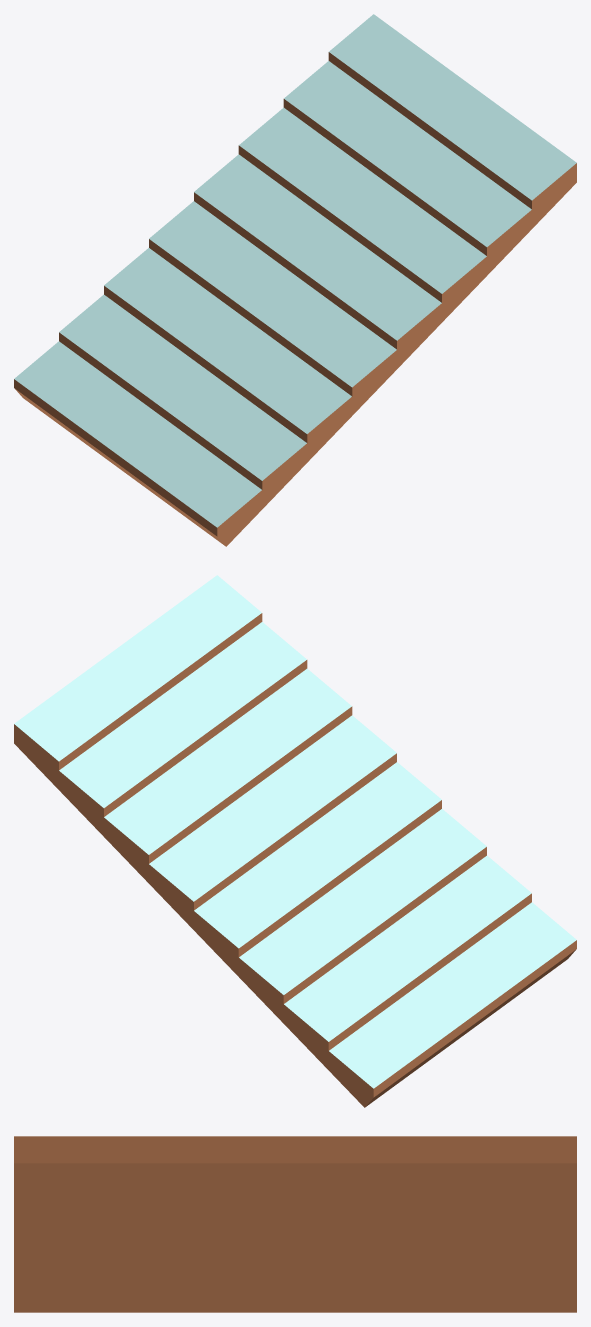
Rendered from cabinRoof.fbx.
The picture shows the model from 3 angles, top to bottom: view 1: azimuth 30°, elevation 25°; view 2: azimuth 150°, elevation 25°; view 3: azimuth 270°, elevation 25°; orthographic projection. The views are drawn at different scales.
Parts seen in each view (by area): view 1: cabinRoof; view 2: cabinRoof; view 3: cabinRoof.
Part boxes in pixels (bbox=[...]): cabinRoof: bbox=[14, 14, 576, 546]; cabinRoof: bbox=[14, 575, 576, 1107]; cabinRoof: bbox=[14, 1136, 576, 1312].
Size of the model in its own units: 12.05 by 9.56 by 11.8.
